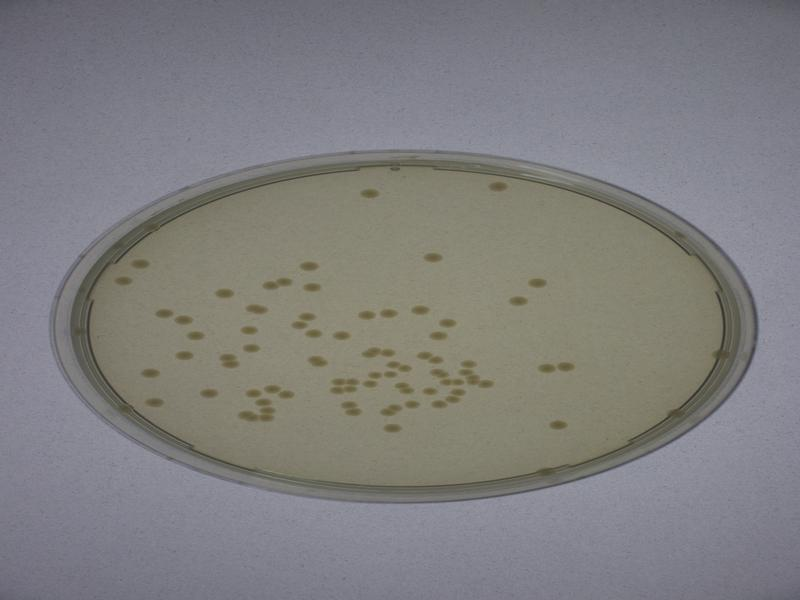colony: (378, 418, 408, 440), (541, 415, 575, 434), (358, 180, 386, 203), (534, 356, 557, 383), (166, 344, 196, 363), (526, 271, 555, 290), (506, 290, 531, 311), (211, 285, 241, 302), (295, 256, 323, 274), (300, 276, 324, 297), (183, 326, 211, 344), (193, 384, 222, 401), (420, 246, 444, 266), (238, 339, 262, 359), (135, 364, 164, 380), (555, 354, 573, 379), (149, 305, 177, 321), (410, 301, 433, 319), (236, 322, 261, 338), (352, 307, 375, 324), (376, 305, 400, 321), (329, 328, 352, 344), (303, 325, 326, 341), (418, 383, 440, 399), (438, 314, 457, 332)
